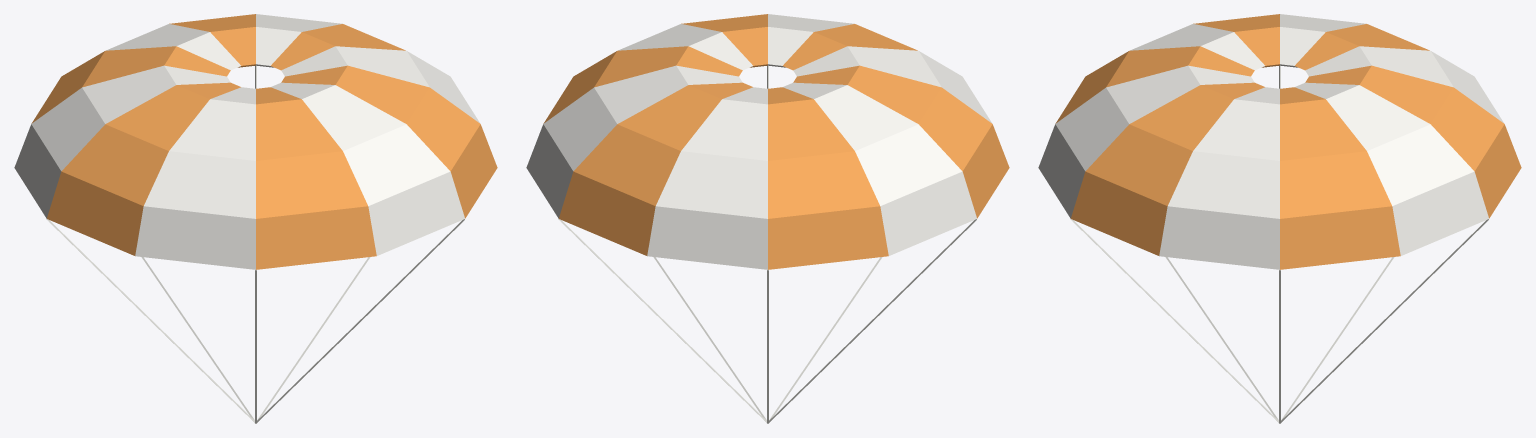
File: parachute.glb
The picture shows the model from 3 angles, left to right: view 1: azimuth 30°, elevation 25°; view 2: azimuth 150°, elevation 25°; view 3: azimuth 270°, elevation 25°; orthographic projection.
Parts seen in each view (by area): view 1: parachute; view 2: parachute; view 3: parachute.
Part boxes in pixels (bbox=[...]): parachute: bbox=[14, 14, 497, 423]; parachute: bbox=[526, 14, 1009, 423]; parachute: bbox=[1038, 14, 1521, 423].
Bounding box in the file's own units: 12.02 × 9.81 × 12.
